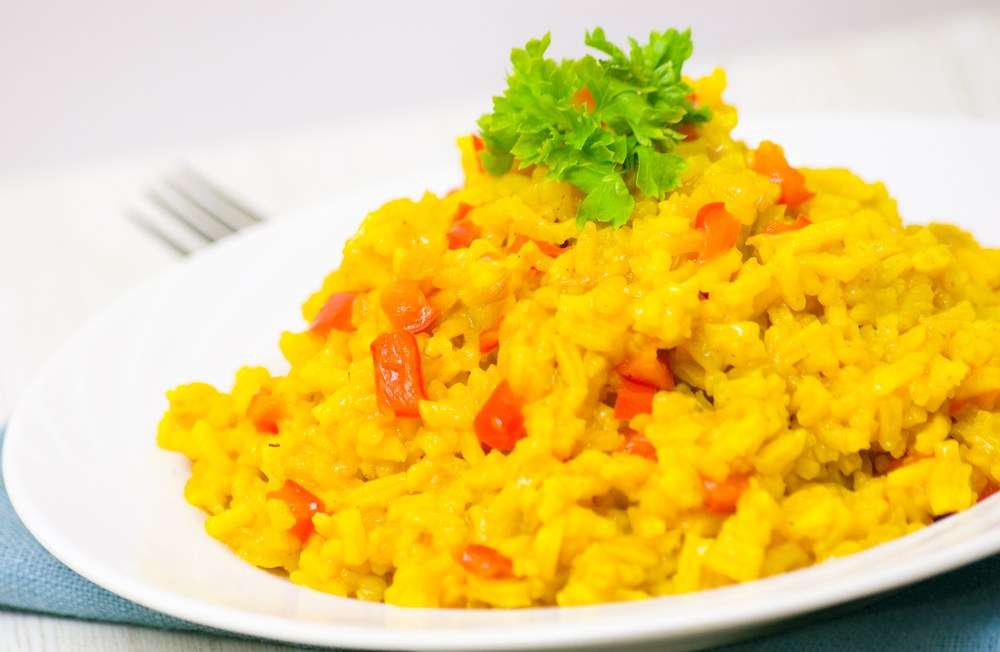rice: (211, 25, 1000, 566)
